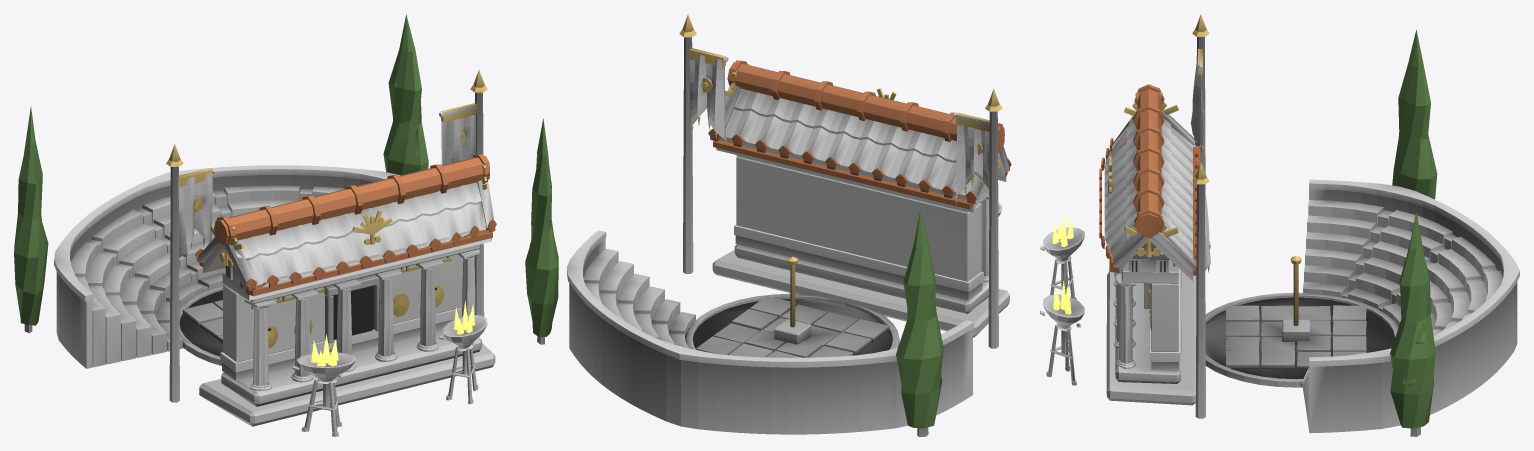
The model's file is hall-of-rhapsodes-l2.glb.
3 renders of one model, left to right at view 1: azimuth 30°, elevation 25°; view 2: azimuth 150°, elevation 25°; view 3: azimuth 270°, elevation 25°, orthographic.
Parts seen in each view (by area): view 1: hall-of-rhapsodes-l2; view 2: hall-of-rhapsodes-l2; view 3: hall-of-rhapsodes-l2.
Part boxes in pixels (bbox=[...]): hall-of-rhapsodes-l2: bbox=[14, 14, 496, 436]; hall-of-rhapsodes-l2: bbox=[525, 14, 1011, 436]; hall-of-rhapsodes-l2: bbox=[1040, 14, 1519, 436].
Size of the model in its own units: 1.6 by 0.9605 by 1.63.
